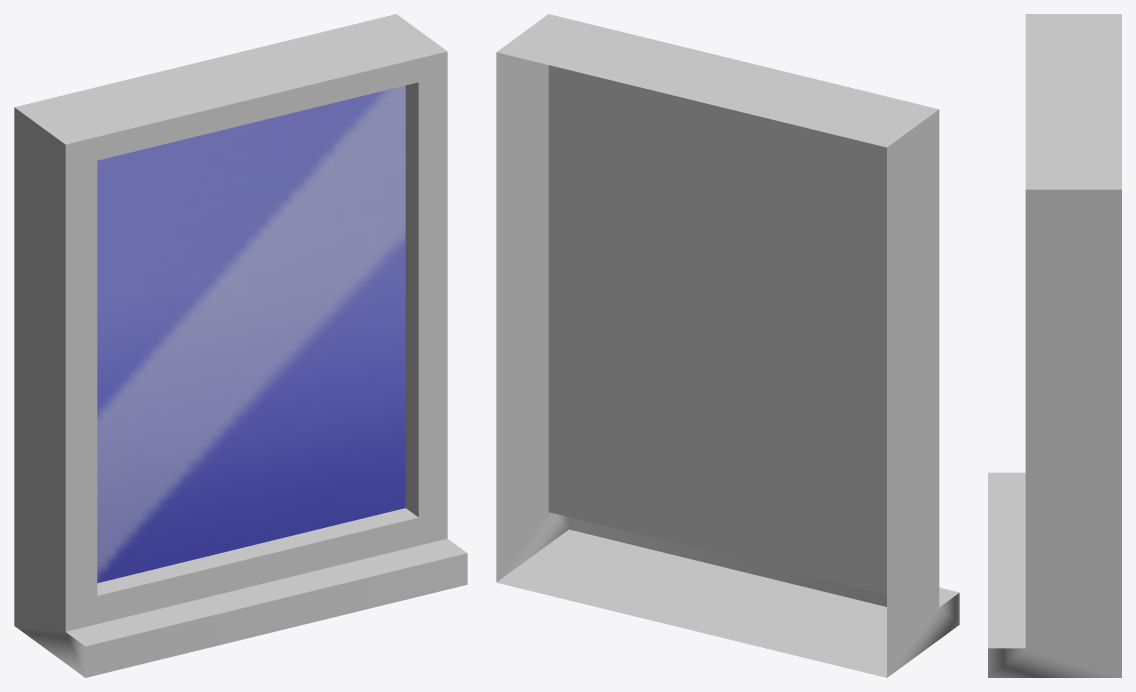
The model's file is window_08.fbx.
3 renders of one model, left to right at view 1: azimuth 30°, elevation 25°; view 2: azimuth 150°, elevation 25°; view 3: azimuth 270°, elevation 25°, orthographic. The views are drawn at different scales.
Visible parts, largest first — view 1: pPlane6, pPlane6_Ext_1; view 2: pPlane6_Ext_1; view 3: pPlane6_Ext_1.
Boxes of the visible parts, x1,y1,x2,y2 form: pPlane6: (97, 85, 405, 583); pPlane6_Ext_1: (14, 14, 467, 677); pPlane6_Ext_1: (496, 14, 959, 677); pPlane6_Ext_1: (988, 14, 1121, 677).
Size of the model in its own units: 114 by 148 by 36.85.
